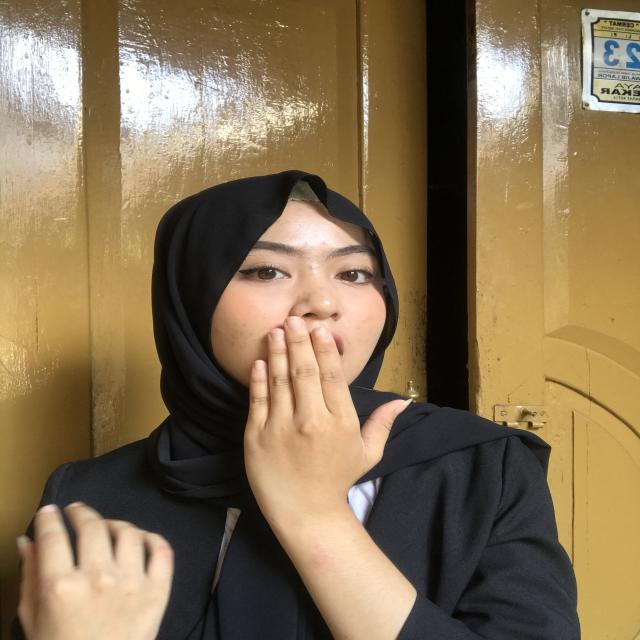ngantuk: (218, 307, 414, 555)
